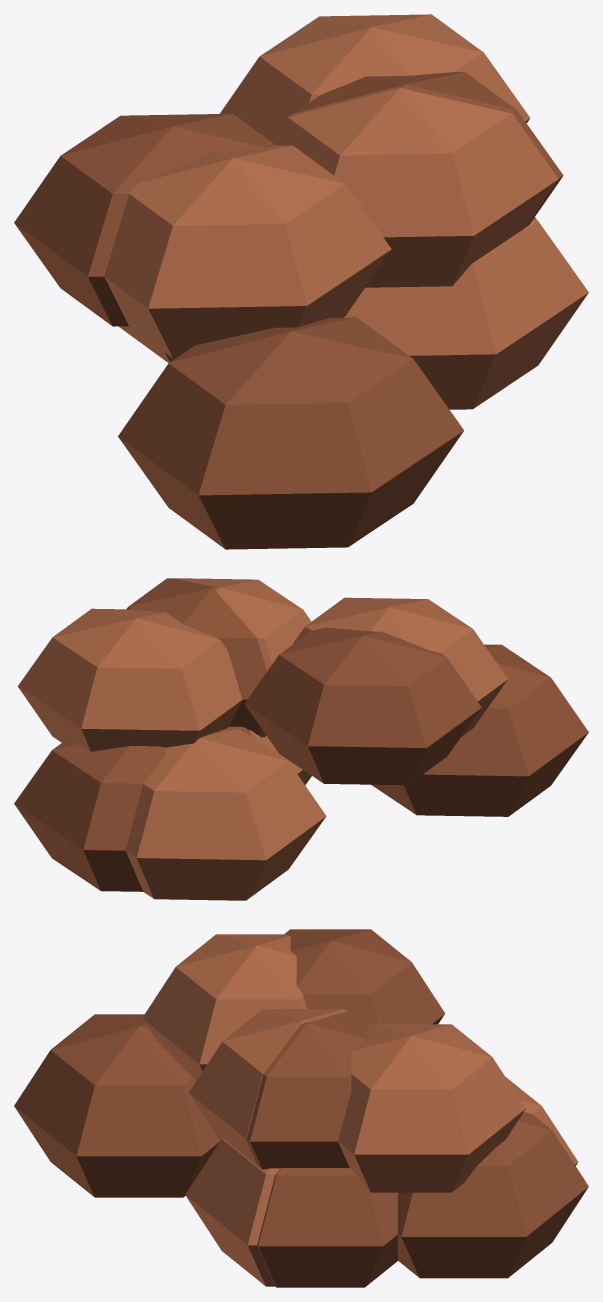
The model's file is pile_clay_2.glb.
3 views of the same model, one above another, from view 1: azimuth 30°, elevation 25°; view 2: azimuth 150°, elevation 25°; view 3: azimuth 270°, elevation 25° (orthographic). The views are drawn at different scales.
Visible parts, largest first — view 1: pile_clay_2; view 2: pile_clay_2; view 3: pile_clay_2.
Boxes of the visible parts, left/top/right/bottom form: pile_clay_2: left=14, top=14, right=588, bottom=549; pile_clay_2: left=14, top=578, right=588, bottom=900; pile_clay_2: left=14, top=929, right=588, bottom=1287.
Bounding box in the file's own units: 0.8787 × 0.522 × 1.1.
